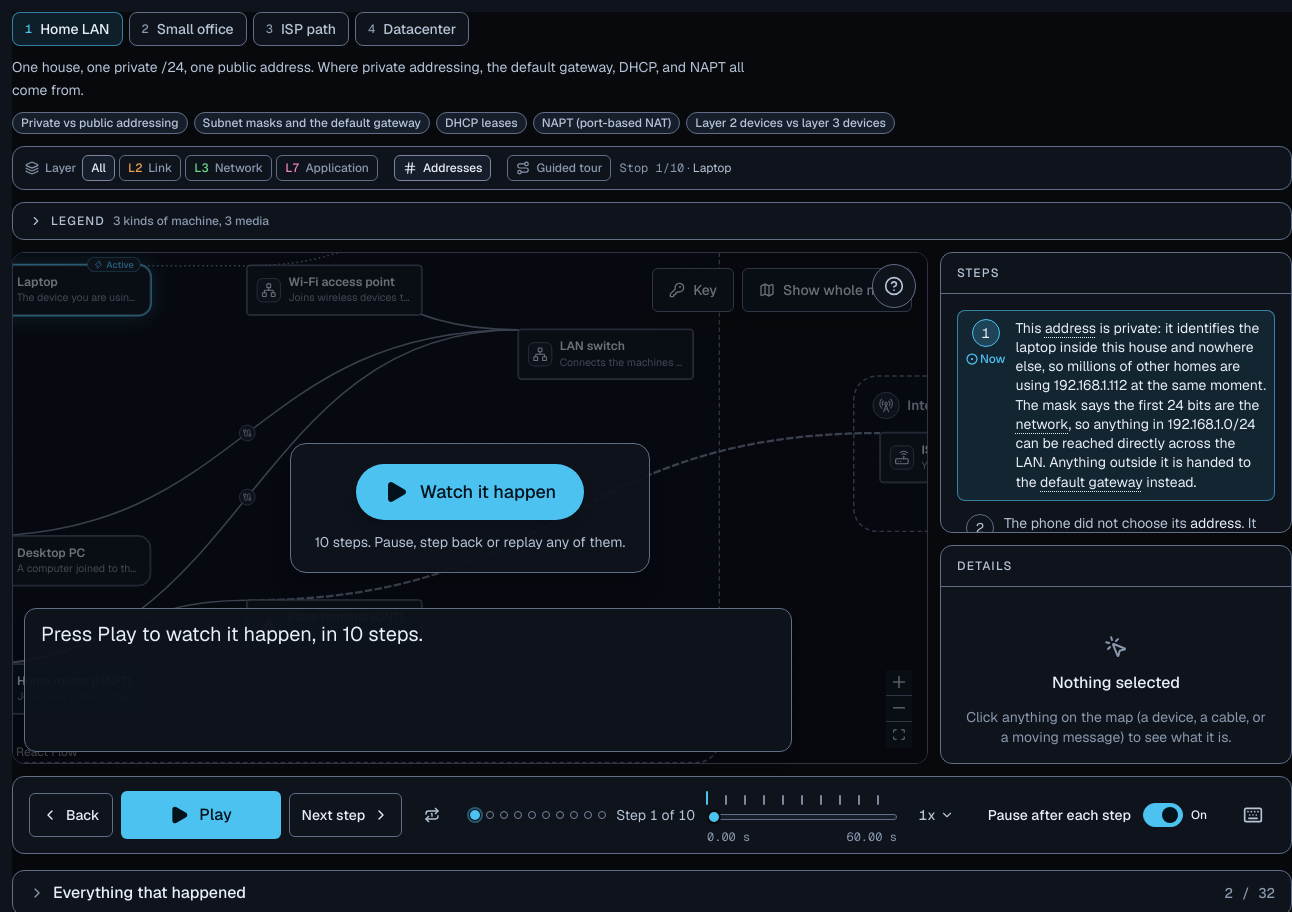
Scenario: NetworkMapModule › switches scenarios in place, with no navigation
Click the button "4 Datacenter" at (412, 29), box [355,12,469,46]
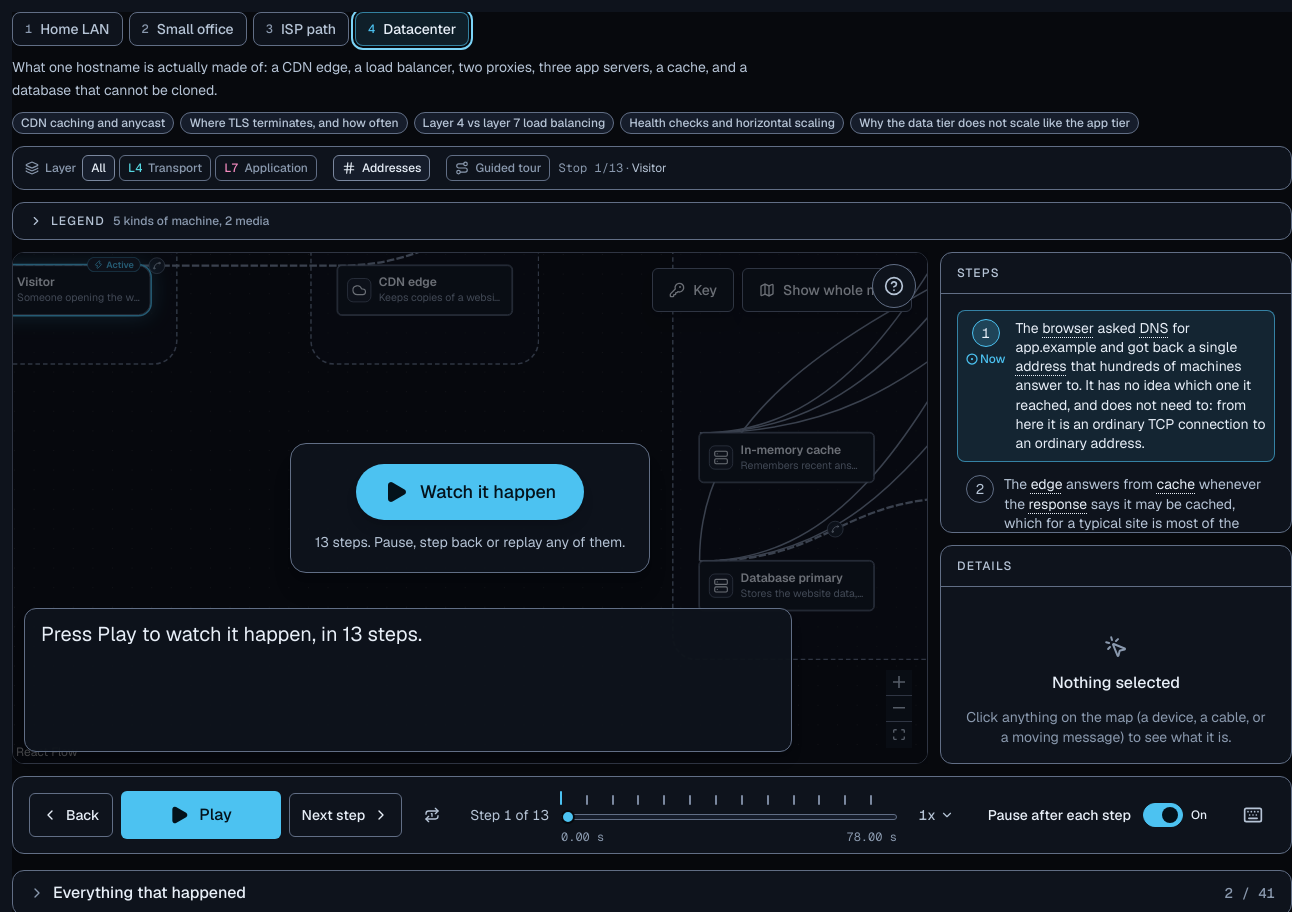
Now the element named "Datacenter topology" is shown, box [12,252,928,764]
Now no elements titled "Home router (NAPT)" are shown
